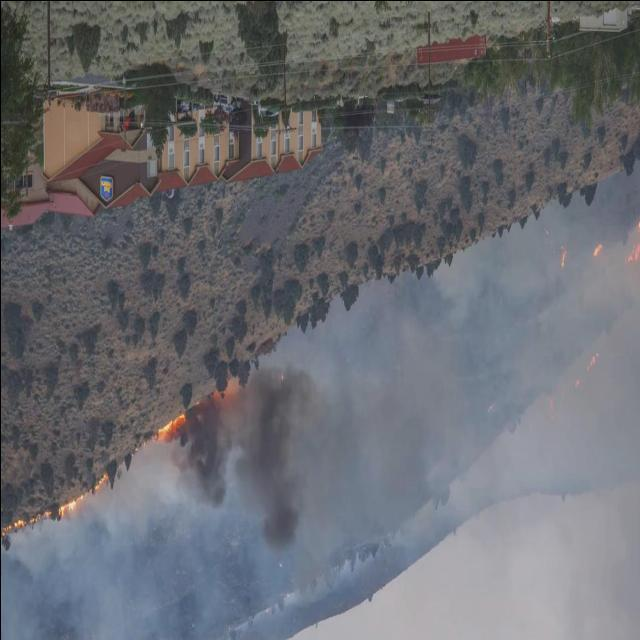Fire: (4, 509, 51, 532), (158, 412, 184, 438), (57, 496, 83, 517), (585, 355, 599, 369), (94, 476, 106, 490), (629, 246, 639, 262), (558, 248, 566, 268), (591, 244, 601, 258), (572, 377, 580, 393)
